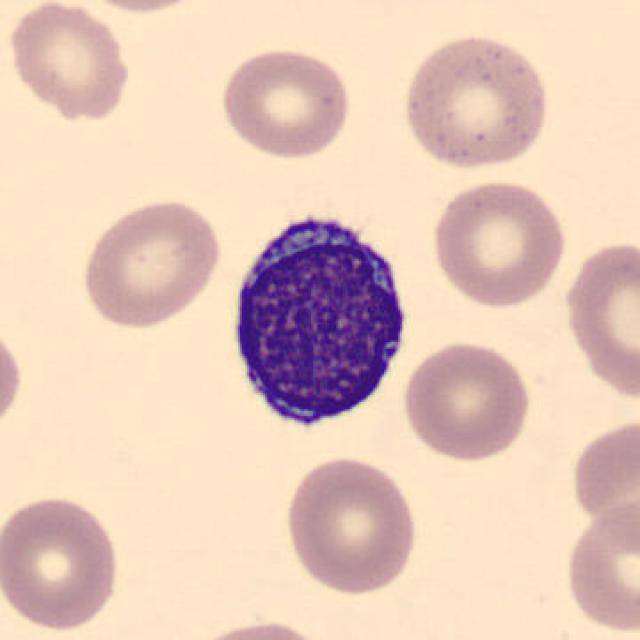Lymphocyte: (217, 198, 419, 438)
RBC: (398, 30, 555, 173), (76, 194, 226, 331), (279, 453, 421, 596), (426, 176, 570, 308), (0, 490, 126, 635), (400, 336, 535, 464), (4, 0, 135, 125), (215, 44, 354, 161), (558, 234, 640, 406), (560, 496, 640, 636), (566, 411, 638, 541), (176, 615, 338, 640), (0, 316, 27, 440), (71, 0, 213, 16)
